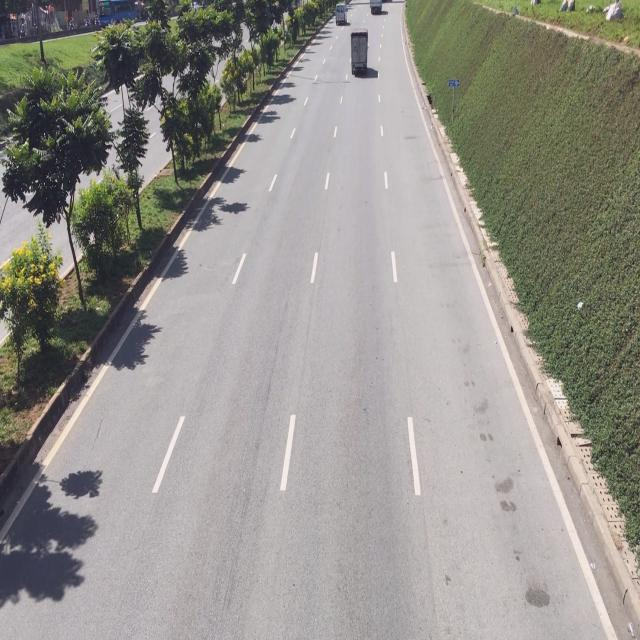truck: (351, 23, 368, 76)
